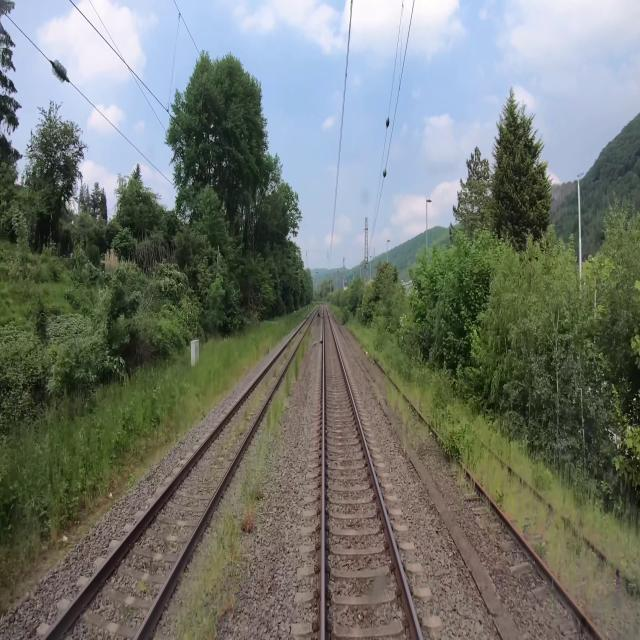Plant: (347, 313, 639, 639), (177, 326, 312, 639), (137, 579, 148, 593)
